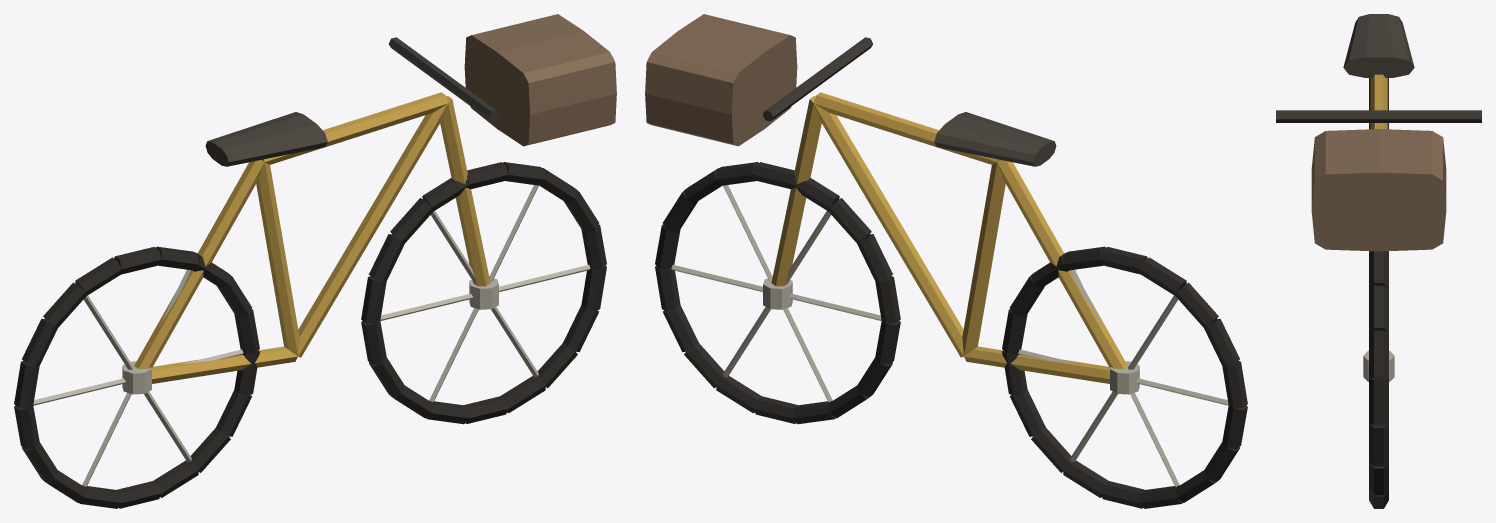
Rendered from bisiklet-hardal.glb.
3 renders of one model, left to right at view 1: azimuth 30°, elevation 25°; view 2: azimuth 150°, elevation 25°; view 3: azimuth 270°, elevation 25°, orthographic. The views are drawn at different scales.
Parts seen in each view (by area): view 1: lastik, a_hardal, ahsap, jant, ic, demir; view 2: lastik, a_hardal, ahsap, jant, ic, demir; view 3: ahsap, lastik, ic, demir, a_hardal, jant.
Boxes of the visible parts, <box> form: lastik: <box>14,162,606,508</box>; a_hardal: <box>134,92,490,383</box>; ahsap: <box>464,14,616,146</box>; jant: <box>33,185,590,486</box>; ic: <box>205,112,327,166</box>; demir: <box>389,37,499,121</box>; lastik: <box>655,162,1247,508</box>; a_hardal: <box>771,92,1127,383</box>; ahsap: <box>645,14,797,146</box>; jant: <box>671,185,1228,486</box>; ic: <box>934,112,1056,166</box>; demir: <box>762,37,872,121</box>; ahsap: <box>1311,129,1446,251</box>; lastik: <box>1369,78,1388,508</box>; ic: <box>1343,14,1414,77</box>; demir: <box>1276,110,1481,122</box>; a_hardal: <box>1370,74,1387,129</box>; jant: <box>1363,350,1394,381</box>.
Size of the model in its own units: 1.76 by 1.04 by 0.52.
